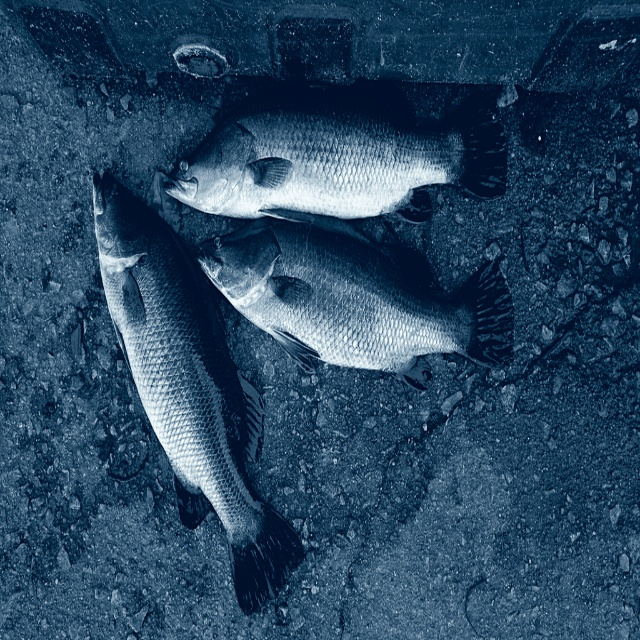Fish: (92, 170, 305, 618), (198, 217, 516, 387), (164, 91, 506, 228)
